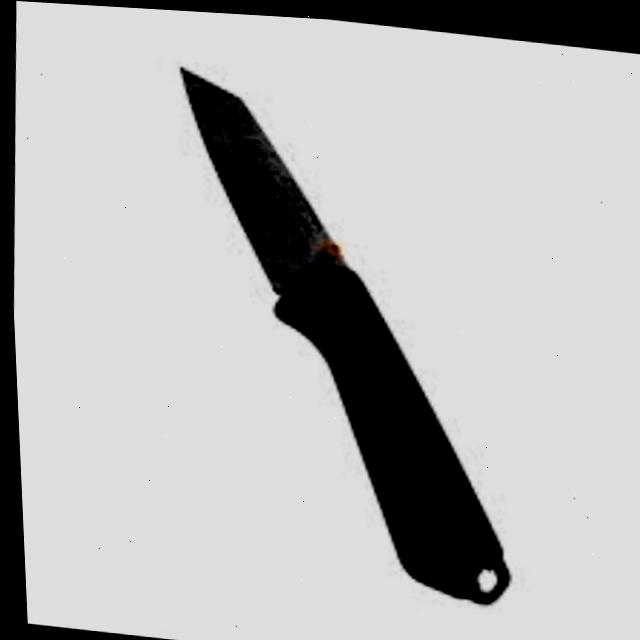pocket-knife: (144, 59, 532, 604)
